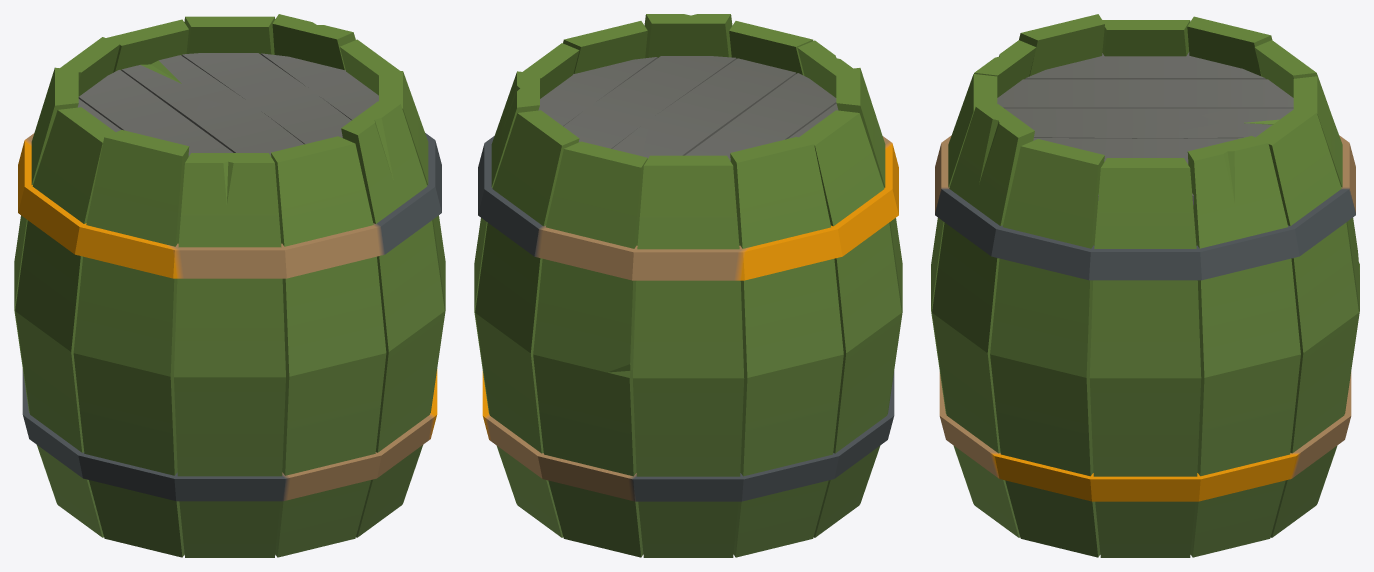
File: Barrel_03.fbx
The picture shows the model from 3 angles, left to right: view 1: azimuth 30°, elevation 25°; view 2: azimuth 150°, elevation 25°; view 3: azimuth 270°, elevation 25°; orthographic projection.
Parts seen in each view (by area): view 1: Barrel_03; view 2: Barrel_03; view 3: Barrel_03.
Part boxes in pixels (left/top/right/bottom): Barrel_03: left=14, top=14, right=445, bottom=557; Barrel_03: left=474, top=14, right=902, bottom=557; Barrel_03: left=931, top=14, right=1359, bottom=557.
Bounding box in the file's own units: 0.7488 × 0.7693 × 0.7488.
